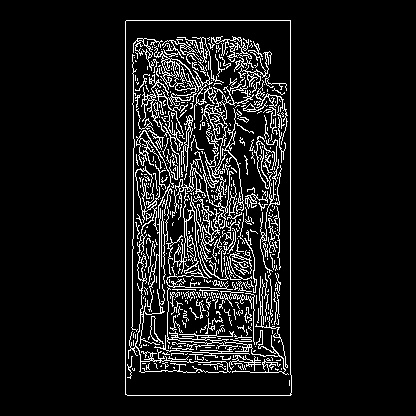buddha-sitting: (88, 182, 210, 194)
